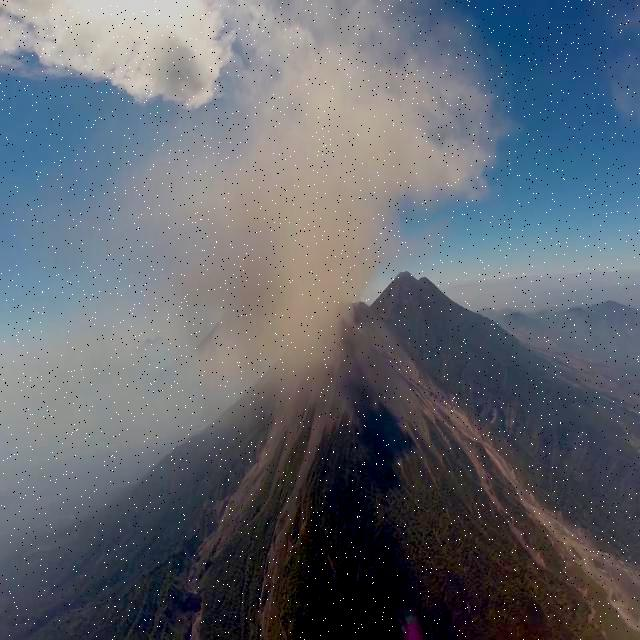Plume: (155, 0, 510, 404), (1, 0, 228, 107), (603, 2, 640, 129)
